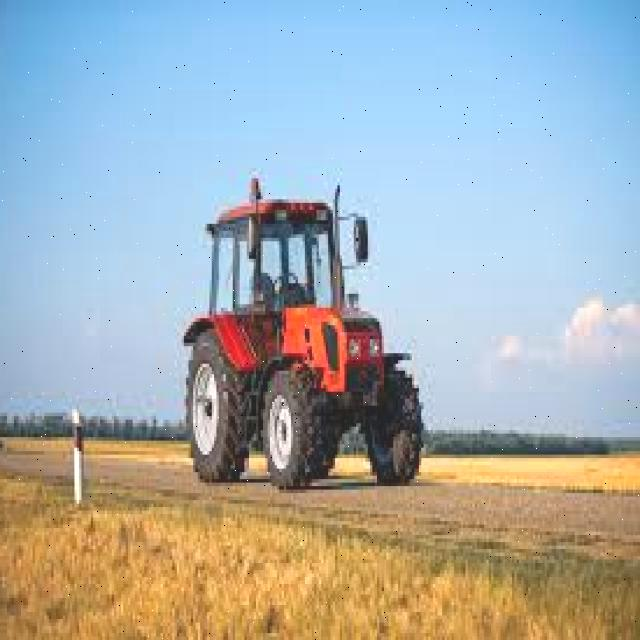Tratores - v5 YOLO V8L 2024-11-13: (184, 196, 423, 486)
